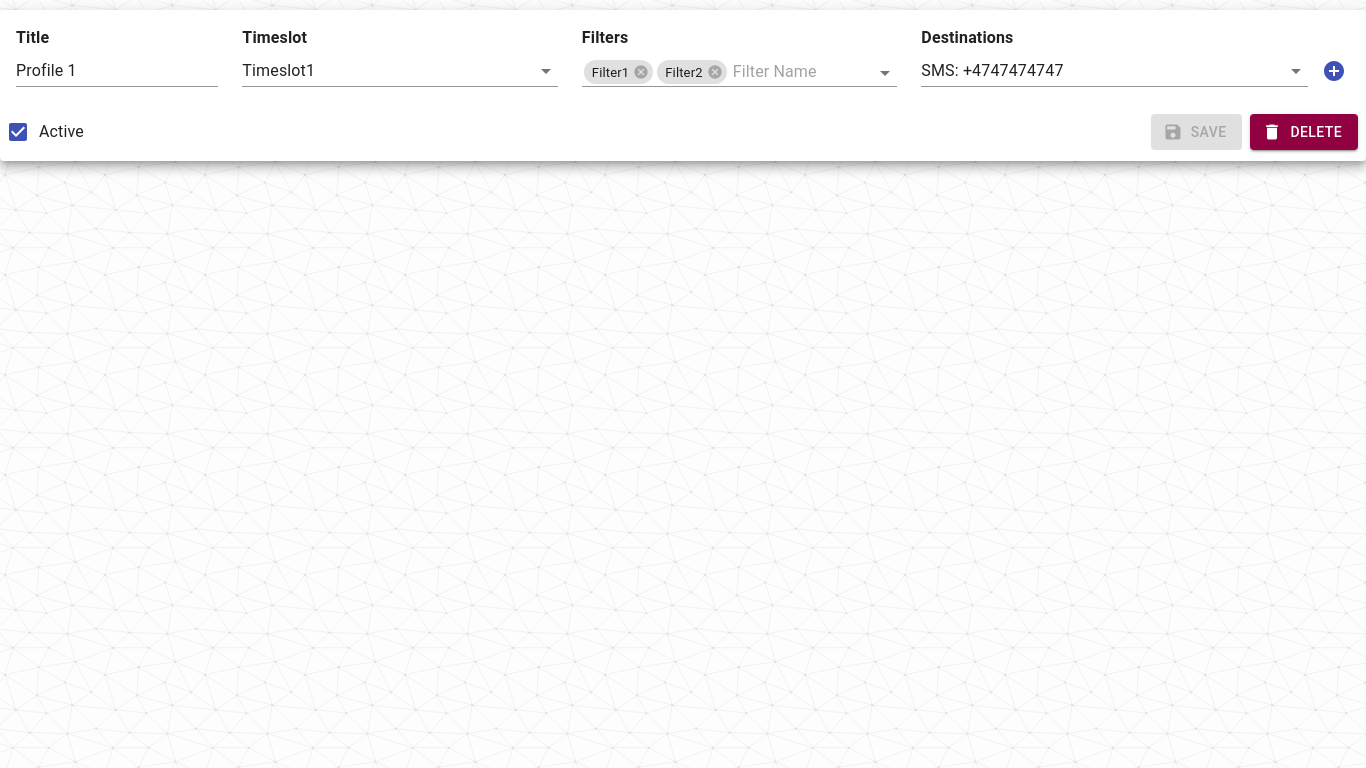
it: Rendering existing profile › renders the timeslot selector correctly
This screenshot has width=1366, height=768.
Click the button "Timeslot1": [279, 70] box left=242, top=61, right=315, bottom=80
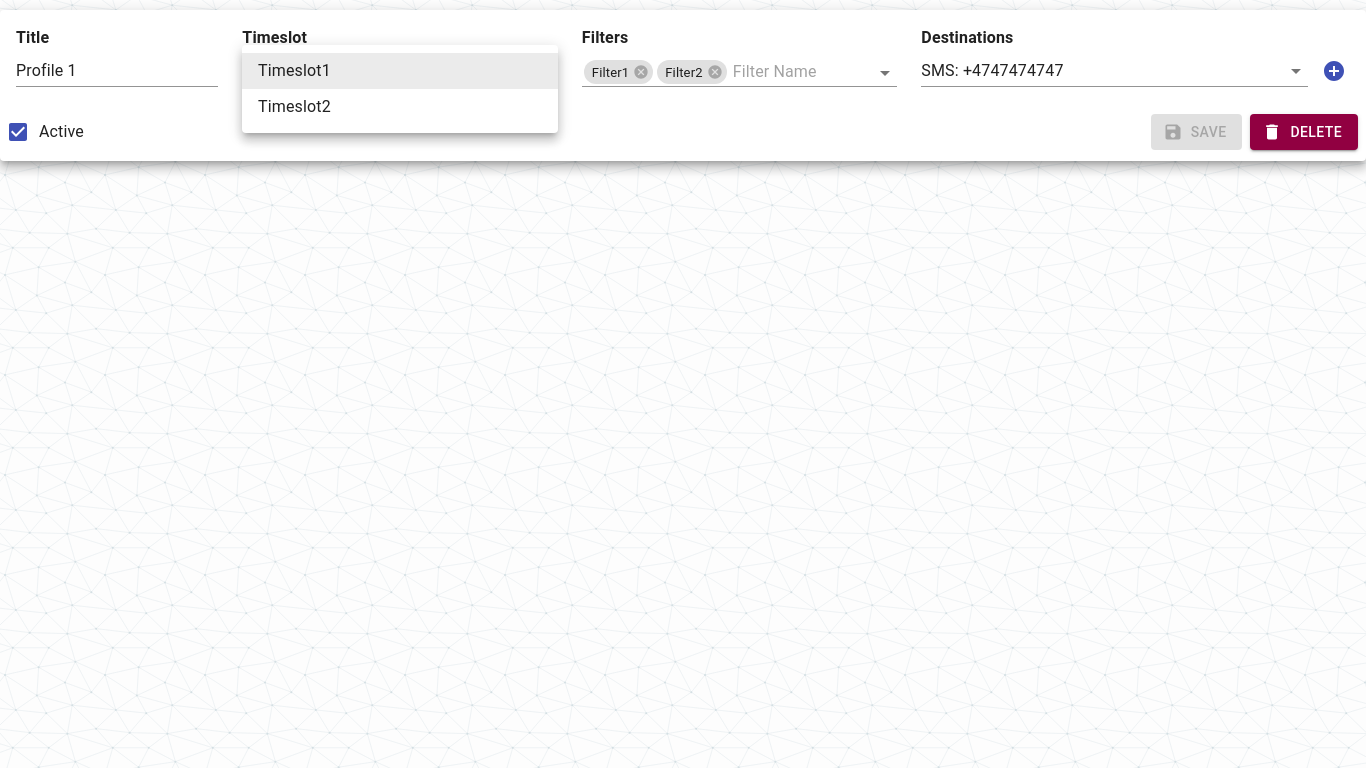
Check: the option "Timeslot1" is shown, box left=242, top=53, right=558, bottom=89
Check: the option "Timeslot2" is shown, box left=258, top=97, right=331, bottom=116
